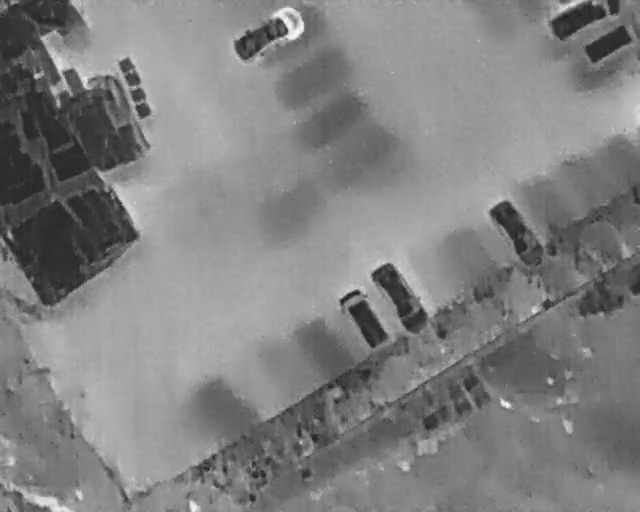Car: (365, 253, 436, 339), (225, 0, 310, 67), (485, 194, 552, 274), (332, 282, 394, 356), (550, 0, 624, 38)
